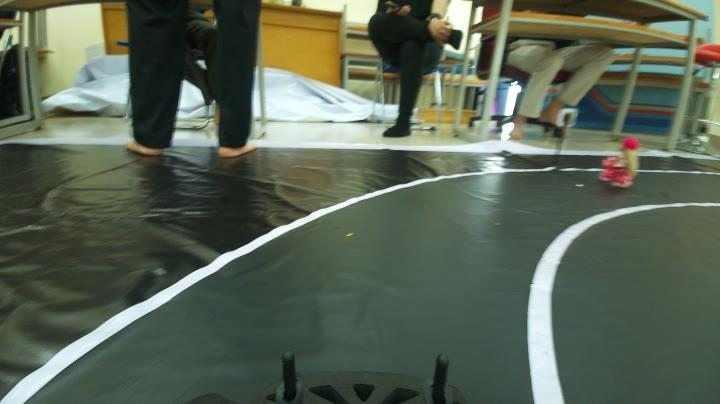pedestrian: (605, 129, 643, 198)
